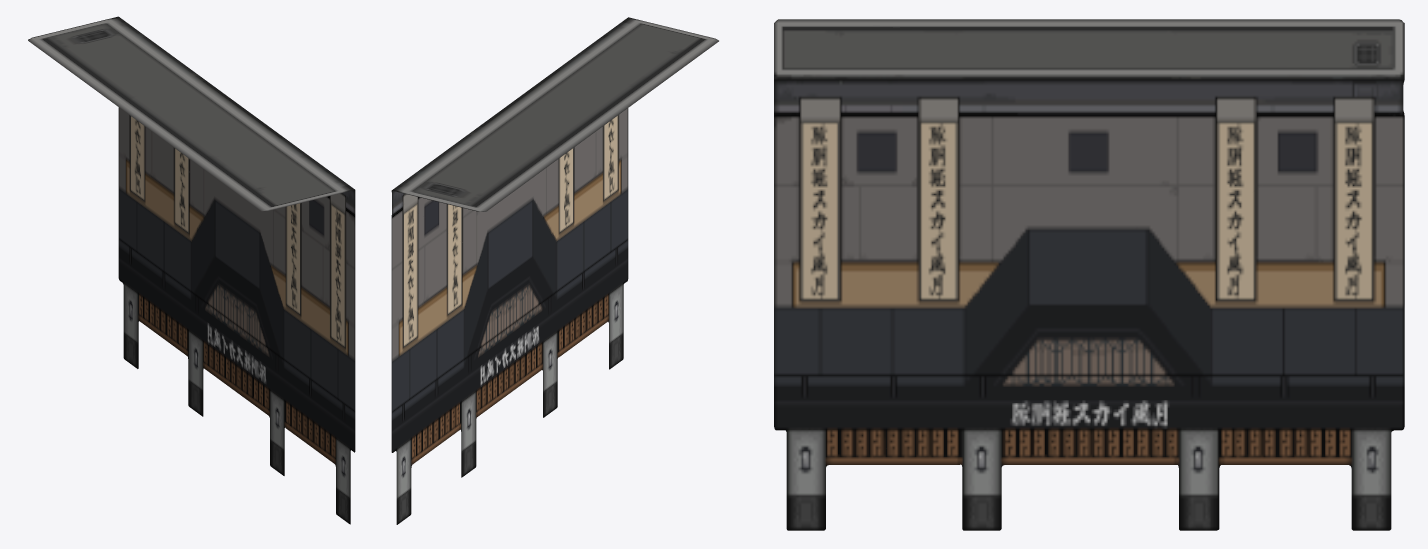
Rendered from Comedian.fbx.
3 renders of one model, left to right at view 1: azimuth 30°, elevation 25°; view 2: azimuth 150°, elevation 25°; view 3: azimuth 270°, elevation 25°, orthographic. The views are drawn at different scales.
Parts seen in each view (by area): view 1: comedian; view 2: comedian; view 3: comedian.
Part boxes in pixels (box(x1,y1,x2,y2)): comedian: box(28, 16, 355, 524); comedian: box(391, 17, 718, 524); comedian: box(774, 19, 1404, 530).
Size of the model in its own units: 108 by 348 by 452.
1 material, 1 textured.
